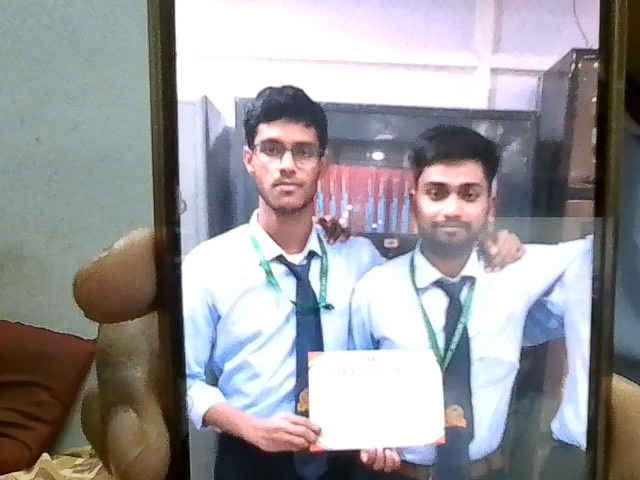real: (390, 105, 510, 275)
